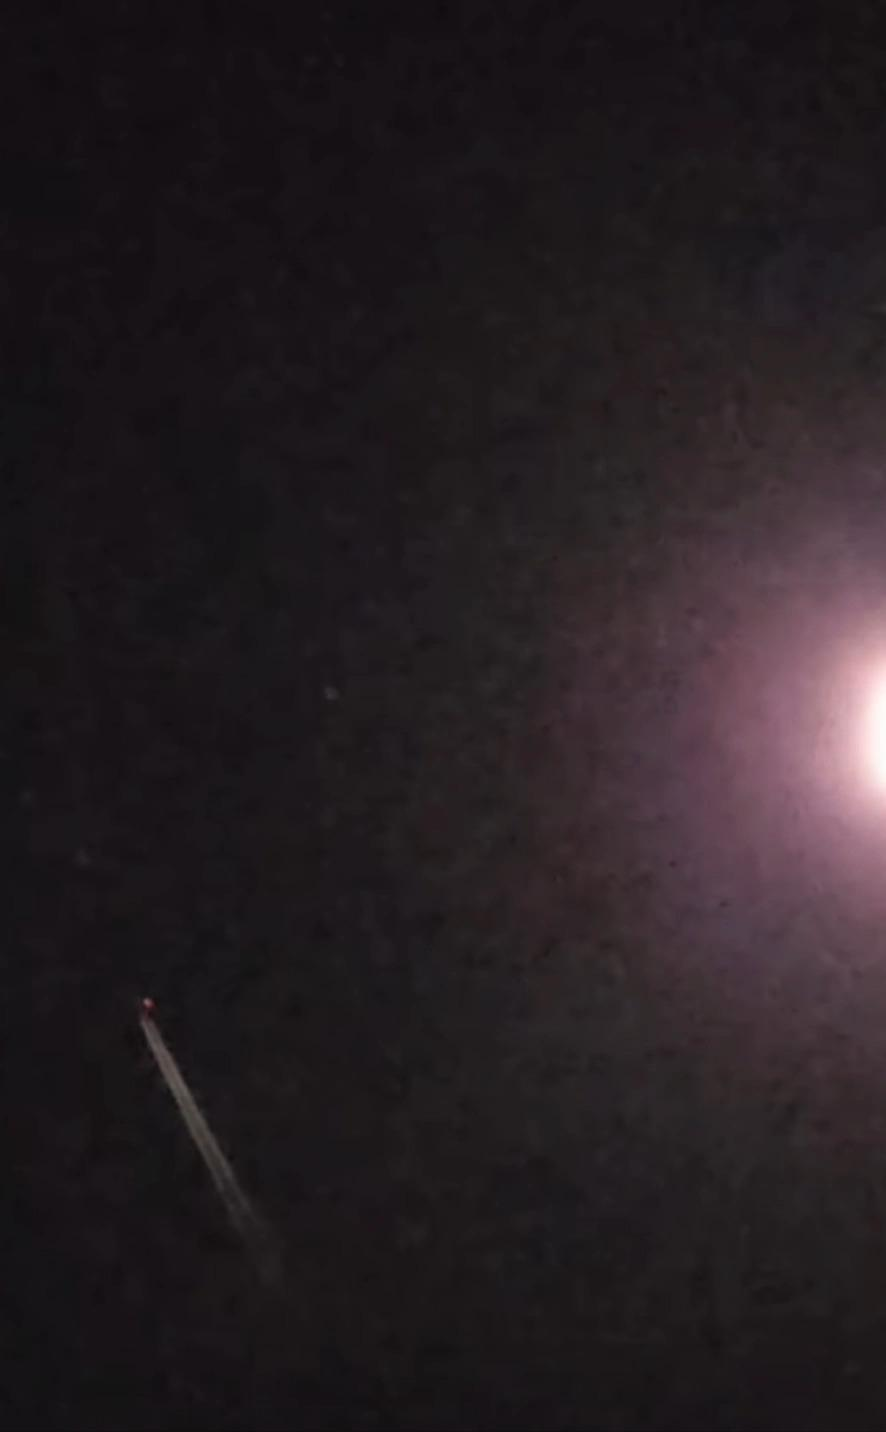Plane: (102, 969, 240, 1164)
